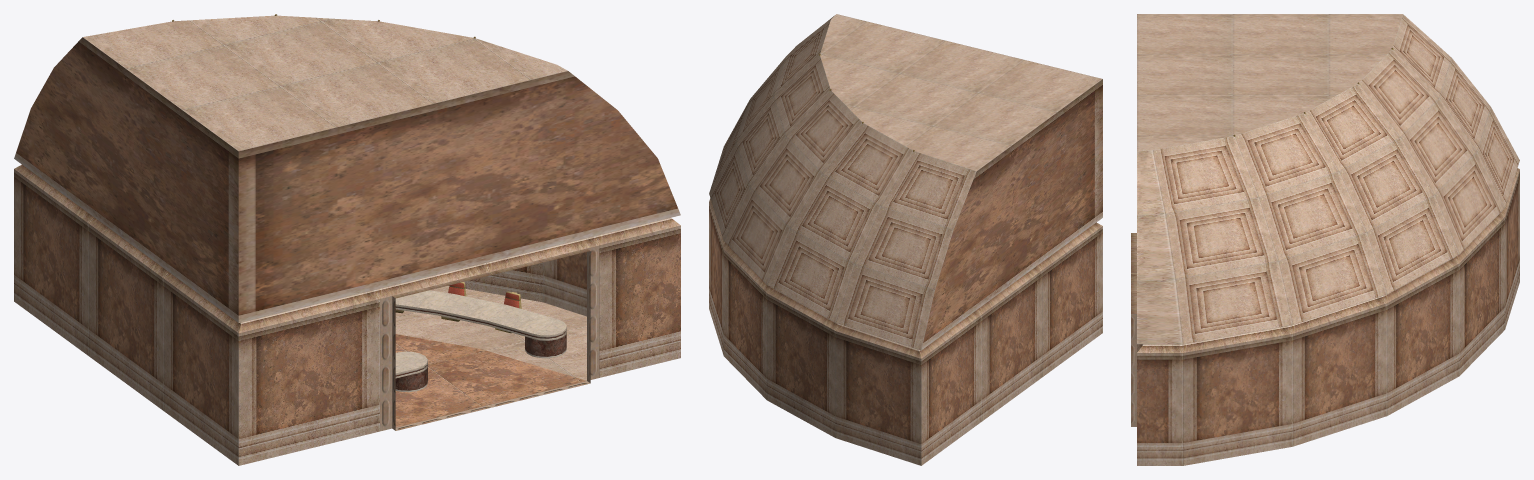
The model's file is thm_nboo_thed_emp_retreat_r4_meetingroom_mesh_r4.fbx.
3 views of the same model, side by side, from view 1: azimuth 30°, elevation 25°; view 2: azimuth 150°, elevation 25°; view 3: azimuth 270°, elevation 25° (orthographic). The views are drawn at different scales.
Visible parts, largest first — view 1: mesh_node; view 2: mesh_node; view 3: mesh_node.
Boxes of the visible parts, x1,y1,x2,y2 form: mesh_node: [14, 14, 680, 465]; mesh_node: [709, 14, 1102, 465]; mesh_node: [1131, 14, 1519, 465].
Size of the model in its own units: 18.15 by 12.37 by 16.22.
